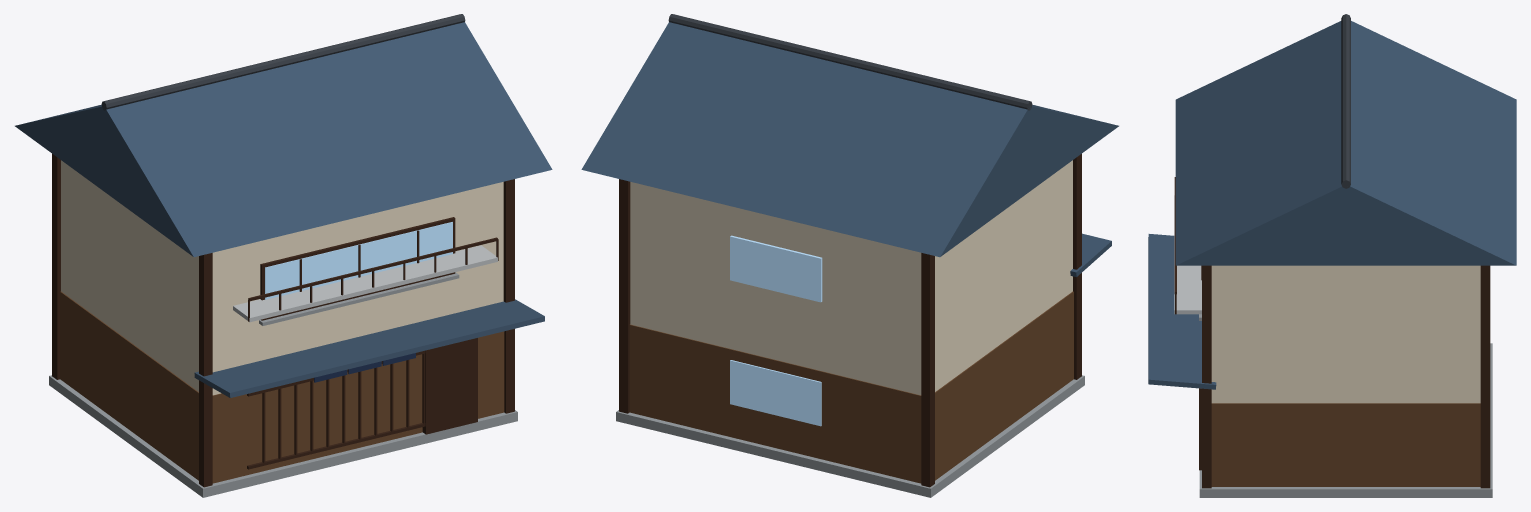
Rendered from res_machiya_2f.glb.
The picture shows the model from 3 angles, left to right: view 1: azimuth 30°, elevation 25°; view 2: azimuth 150°, elevation 25°; view 3: azimuth 270°, elevation 25°; orthographic projection. The views are drawn at different scales.
Parts seen in each view (by area): view 1: roof.025, body.051, wood_band, slate, base.051, win_glass.063, balcony_slab.052, door.044, ridge.025, post.267, post.269, post.268 (+4 smaller); view 2: roof.025, body.051, wood_band, base.051, win_back.097, win_back.098, ridge.025, post.268, post.270, post.267, slate; view 3: roof.025, body.051, wood_band, slate, base.051, post.270, post.269, ridge.025, balcony_slab.052.
Part boxes in pixels (x1=…): roof.025: x1=15, y1=22, x2=552, y2=257; body.051: x1=61, y1=160, x2=503, y2=395; wood_band: x1=60, y1=291, x2=504, y2=483; slate: x1=194, y1=299, x2=544, y2=397; base.051: x1=49, y1=375, x2=517, y2=497; win_glass.063: x1=265, y1=222, x2=452, y2=299; balcony_slab.052: x1=233, y1=245, x2=497, y2=322; door.044: x1=422, y1=338, x2=477, y2=434; ridge.025: x1=101, y1=14, x2=465, y2=110; post.267: x1=199, y1=253, x2=212, y2=487; post.269: x1=503, y1=179, x2=514, y2=413; post.268: x1=52, y1=154, x2=60, y2=379; roof.025: x1=581, y1=22, x2=1118, y2=257; body.051: x1=630, y1=160, x2=1072, y2=395; wood_band: x1=629, y1=291, x2=1073, y2=483; base.051: x1=616, y1=375, x2=1084, y2=497; win_back.097: x1=730, y1=235, x2=822, y2=302; win_back.098: x1=730, y1=360, x2=821, y2=426; ridge.025: x1=668, y1=14, x2=1032, y2=110; post.268: x1=921, y1=253, x2=934, y2=487; post.270: x1=619, y1=179, x2=630, y2=413; post.267: x1=1073, y1=154, x2=1081, y2=379; slate: x1=1070, y1=233, x2=1111, y2=277; roof.025: x1=1175, y1=21, x2=1516, y2=265; body.051: x1=1211, y1=265, x2=1480, y2=403; wood_band: x1=1211, y1=403, x2=1480, y2=486; slate: x1=1148, y1=234, x2=1216, y2=389; base.051: x1=1199, y1=343, x2=1492, y2=497; post.270: x1=1480, y1=265, x2=1490, y2=488; post.269: x1=1202, y1=265, x2=1211, y2=488; ridge.025: x1=1341, y1=14, x2=1350, y2=188; balcony_slab.052: x1=1174, y1=195, x2=1201, y2=314.
Bounding box in the file's own units: 9 × 8.28 × 8.43.
